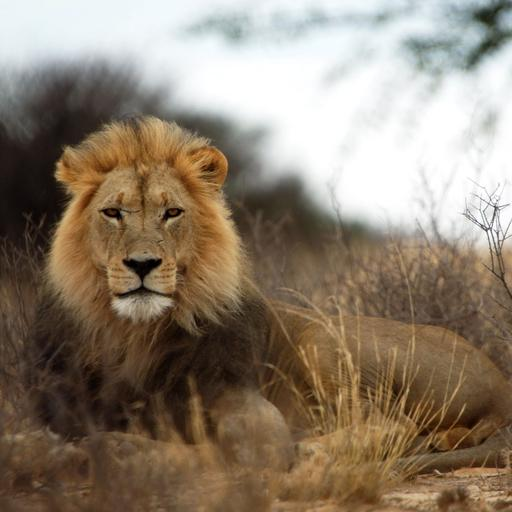Lion: (0, 111, 512, 499)
